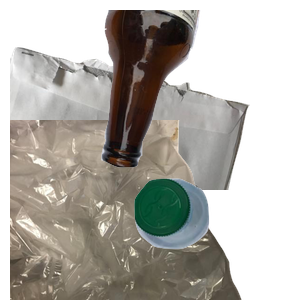glass: (99, 10, 300, 170)
paper: (10, 45, 250, 225)
plastic: (132, 176, 300, 300)
trash: (10, 120, 244, 300)
